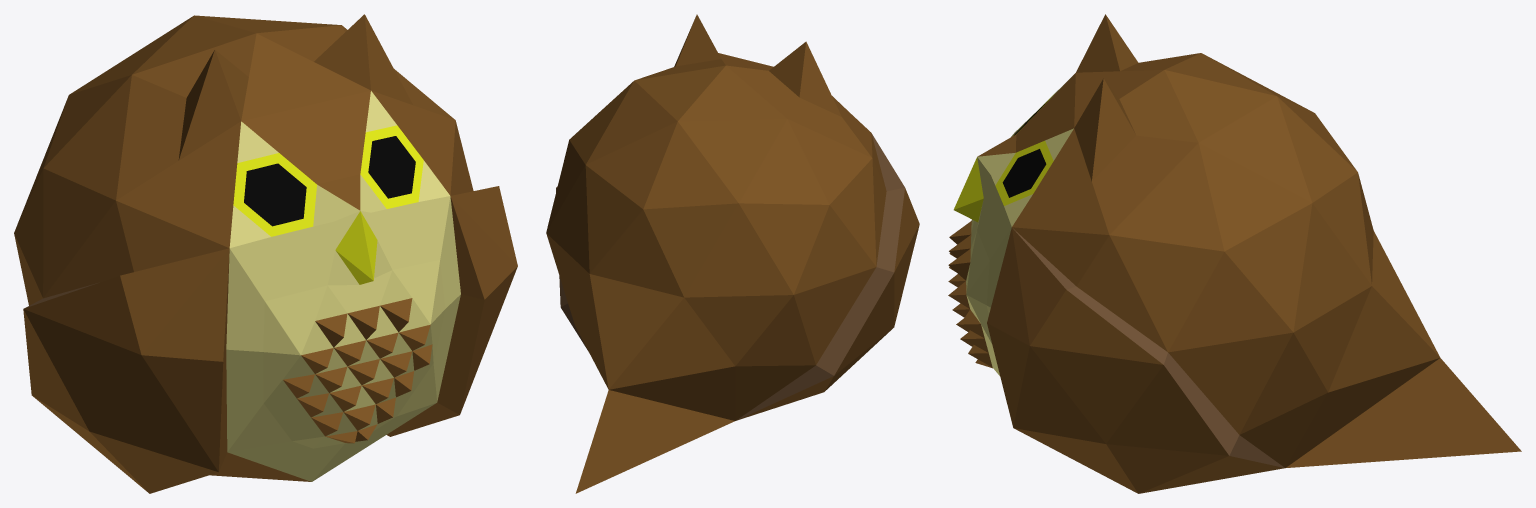
Rendered from Owl.glb.
The picture shows the model from 3 angles, left to right: view 1: azimuth 30°, elevation 25°; view 2: azimuth 150°, elevation 25°; view 3: azimuth 270°, elevation 25°; orthographic projection. The views are drawn at different scales.
Parts seen in each view (by area): view 1: Owl; view 2: Owl; view 3: Owl.
Boxes of the visible parts, x1=… form: Owl: x1=14, y1=14, x2=517, y2=493; Owl: x1=546, y1=14, x2=919, y2=493; Owl: x1=948, y1=14, x2=1521, y2=493.
Size of the model in its own units: 10.04 by 9.61 by 12.26.
